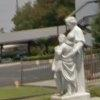Statue: (42, 11, 96, 100)
